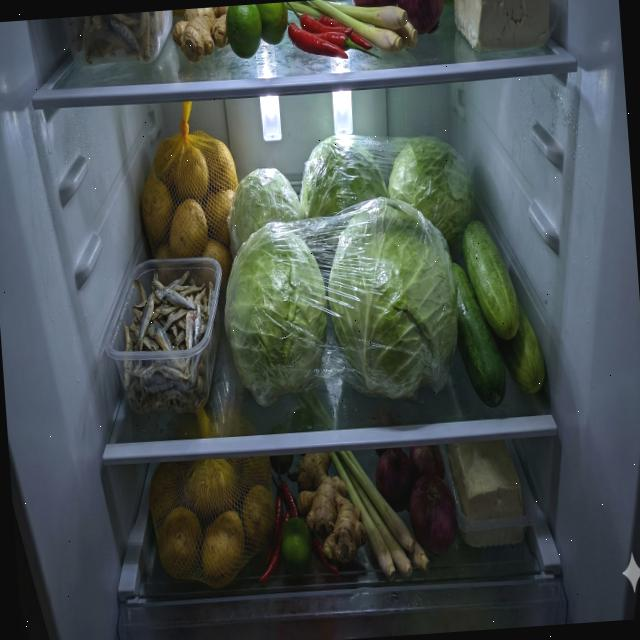anchovies: (115, 258, 222, 414)
cabbage: (321, 192, 464, 405), (218, 218, 334, 410), (384, 132, 478, 257), (295, 130, 388, 218), (224, 165, 307, 262)
chili: (252, 469, 341, 582), (285, 0, 381, 65)
cucumber: (448, 214, 548, 410)
ginger: (292, 448, 370, 566), (170, 6, 231, 64)
lemongrass: (329, 444, 431, 585), (286, 0, 418, 60)
lime: (223, 1, 290, 59), (279, 515, 315, 578)
onion: (373, 444, 458, 558)
potato: (146, 455, 282, 593), (136, 128, 245, 288)
tofu: (446, 438, 526, 550), (452, 0, 552, 54)
